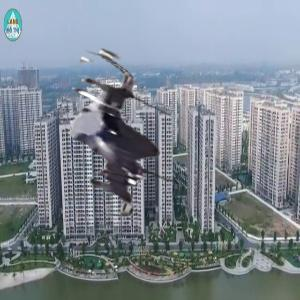drone: (52, 66, 216, 230)
